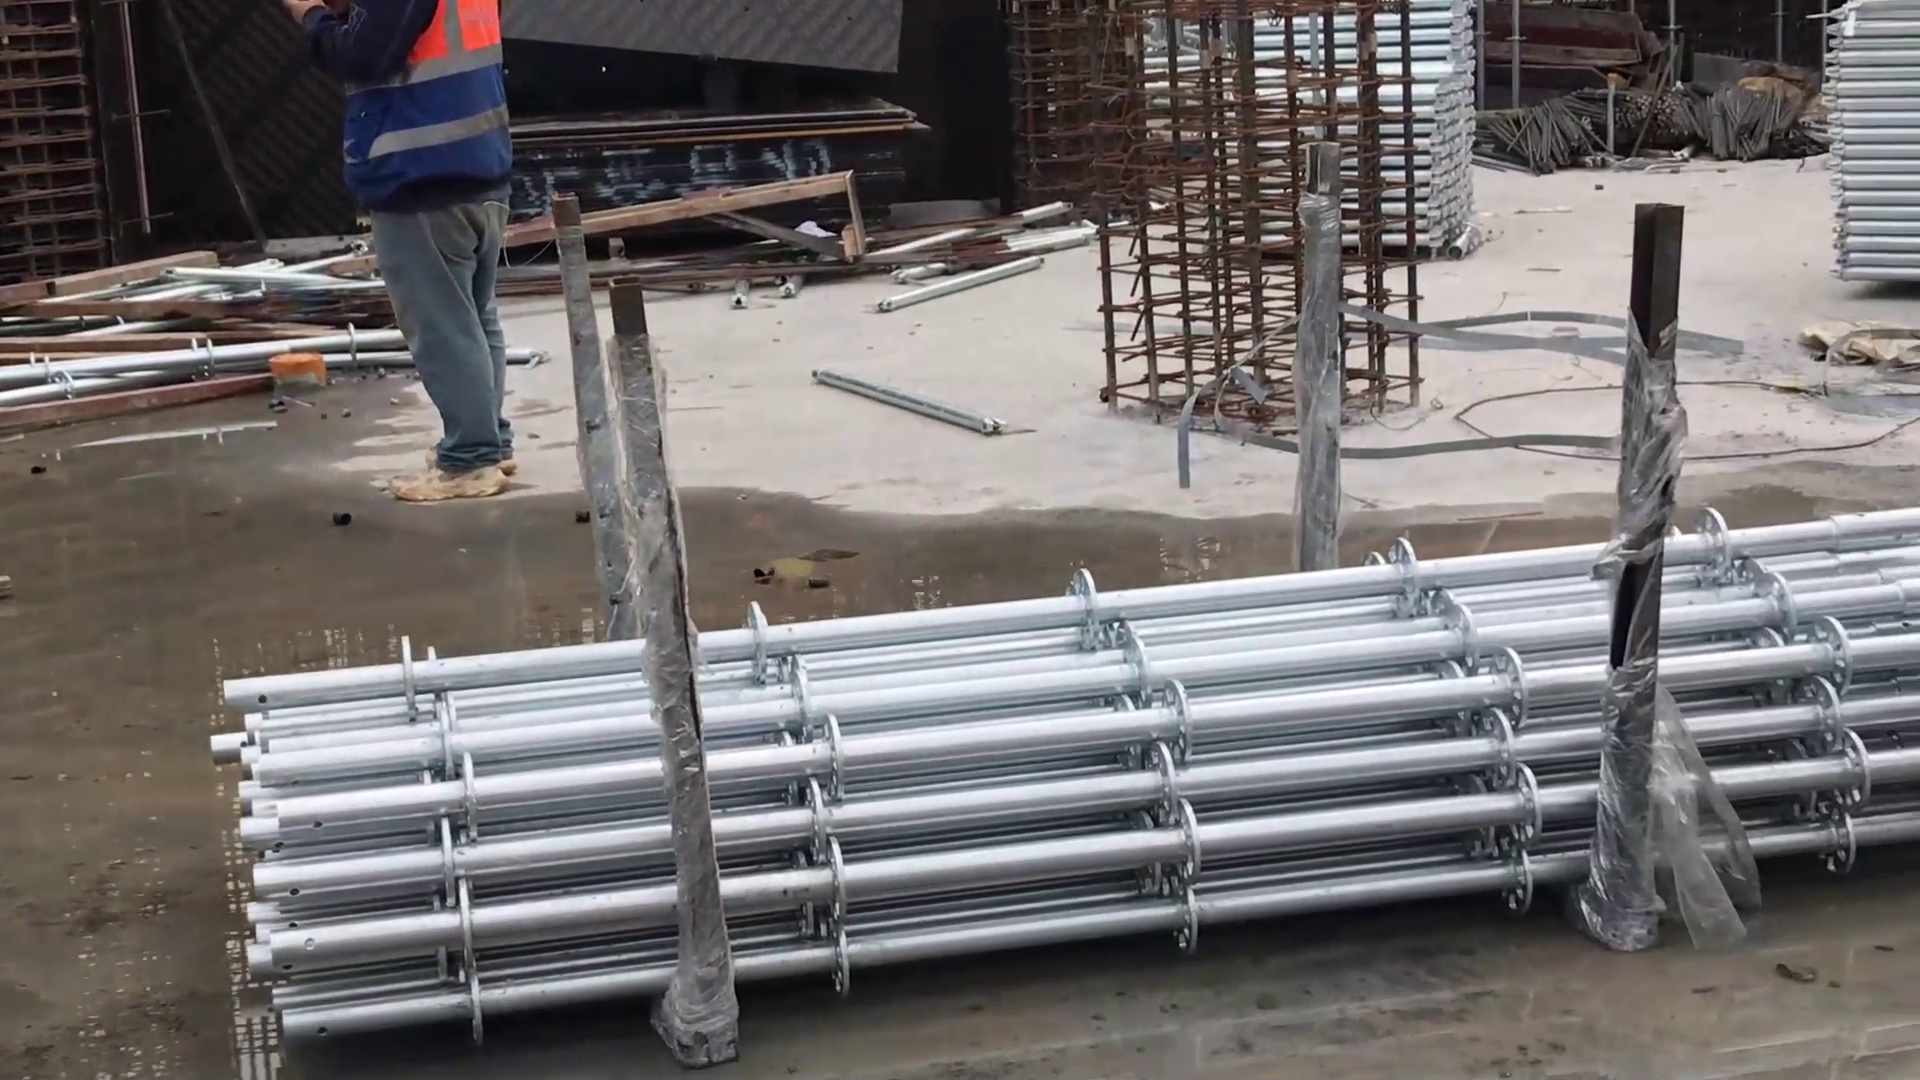person: (267, 1, 543, 517)
scaffold: (207, 490, 1920, 1069), (1812, 1, 1920, 297), (1379, 1, 1496, 262)
vest: (315, 1, 517, 207)
